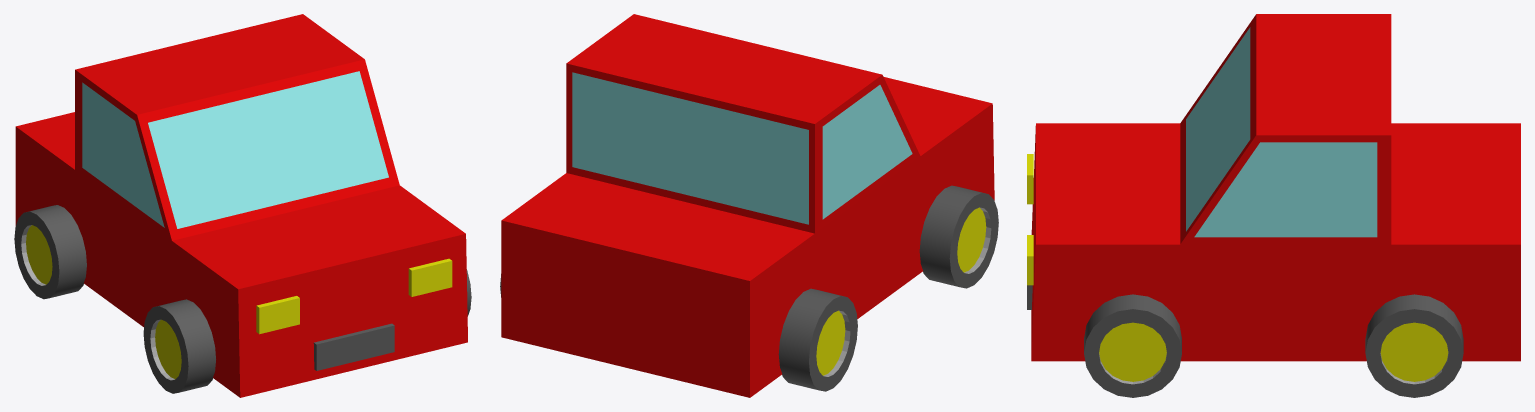
The model's file is Car.fbx.
The picture shows the model from 3 angles, left to right: view 1: azimuth 30°, elevation 25°; view 2: azimuth 150°, elevation 25°; view 3: azimuth 270°, elevation 25°; orthographic projection. The views are drawn at different scales.
Visible parts, largest first — view 1: pCube1, pCylinder1, pasted__pCylinder1, pasted__pasted__pCube2, pCube2, pasted__pCube2; view 2: pCube1, pasted__pCylinder1, pCylinder1; view 3: pCube1, pasted__pCylinder1, pasted__pasted__pCylinder1.
Boxes of the visible parts, x1,y1,x2,y2 form: pCube1: [15, 14, 467, 397]; pCylinder1: [143, 299, 215, 393]; pasted__pCylinder1: [14, 205, 86, 299]; pasted__pasted__pCube2: [313, 323, 394, 370]; pCube2: [408, 258, 452, 296]; pasted__pCube2: [256, 296, 299, 334]; pCube1: [501, 14, 994, 397]; pasted__pCylinder1: [778, 288, 857, 391]; pCylinder1: [919, 185, 998, 288]; pCube1: [1031, 14, 1520, 361]; pasted__pCylinder1: [1365, 294, 1463, 397]; pasted__pasted__pCylinder1: [1084, 294, 1181, 397].
Size of the model in its own units: 2.64 by 2.03 by 3.67.
